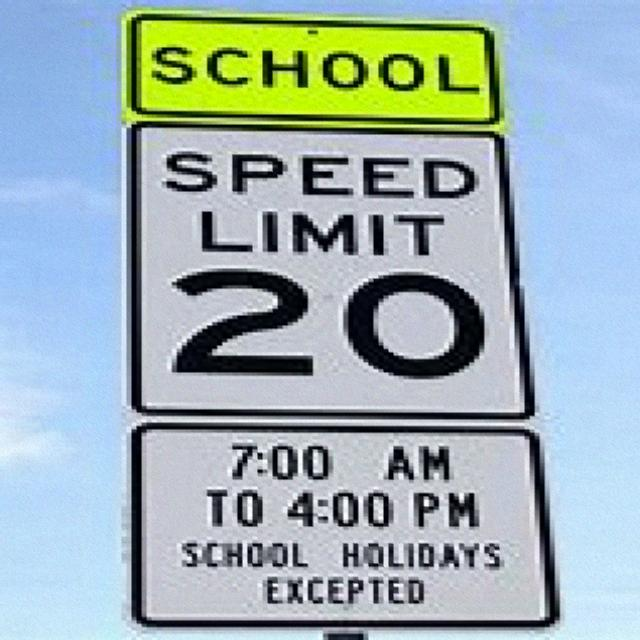speedLimit20: (121, 114, 529, 419)
